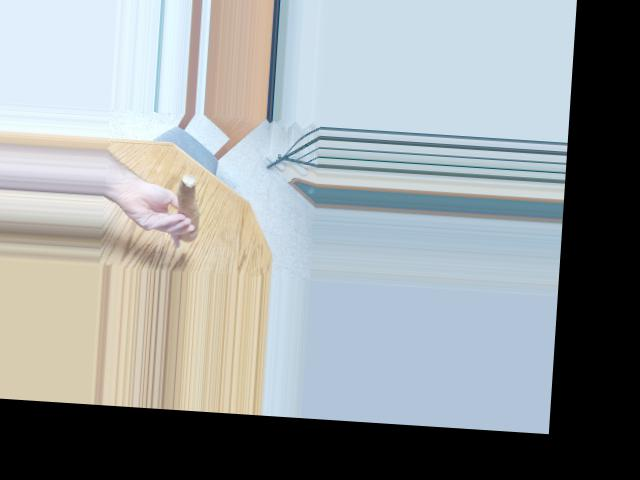sweet_potato: (170, 178, 205, 237)
